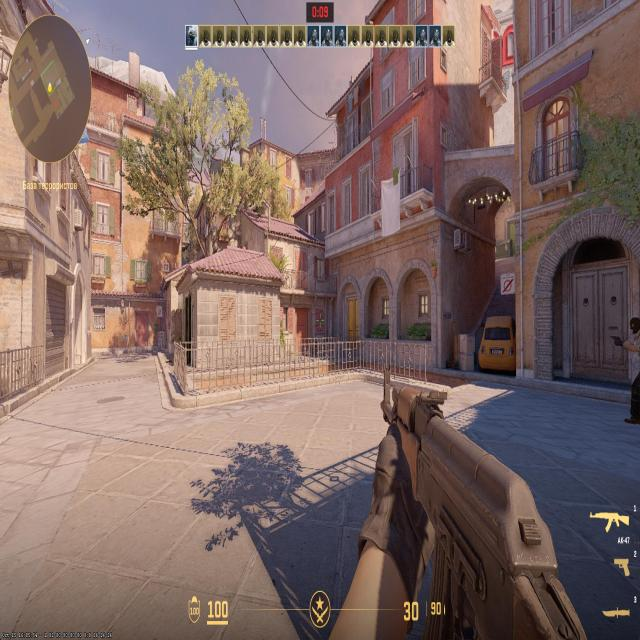T: (627, 320, 640, 418)
T_heat: (630, 318, 638, 336)
